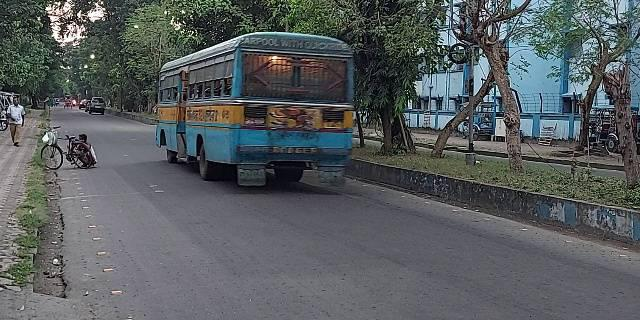Bus: (155, 32, 359, 189)
Cycle: (40, 135, 88, 165)
